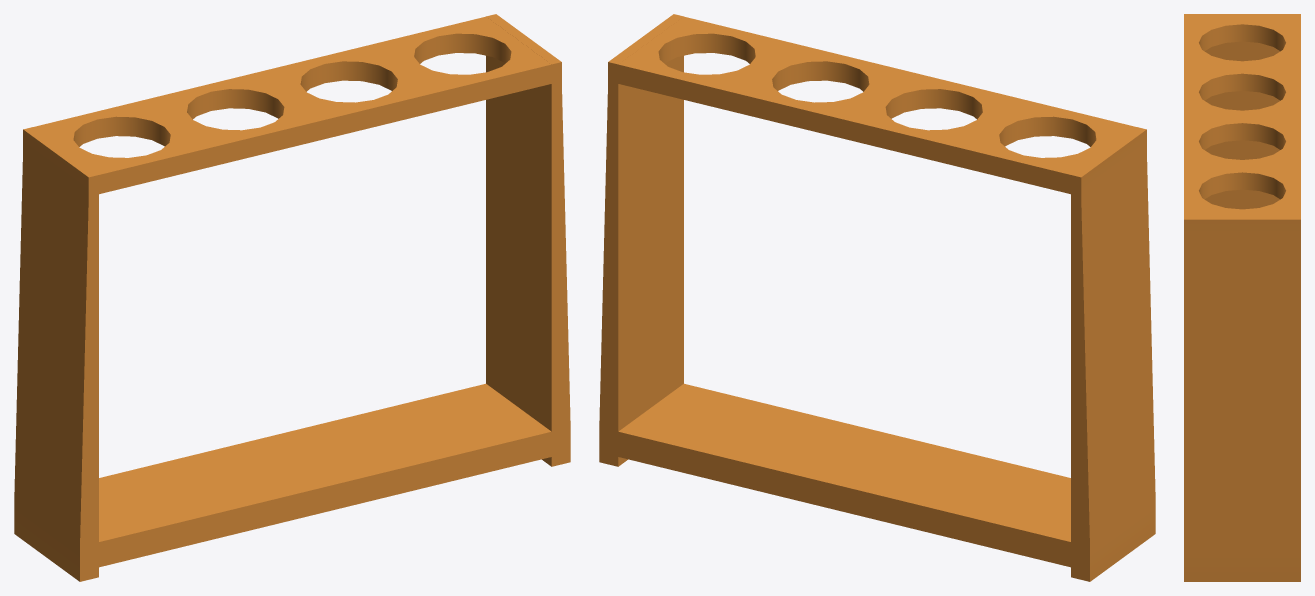
Rendered from vialLargeHolder.fbx.
3 views of the same model, side by side, from view 1: azimuth 30°, elevation 25°; view 2: azimuth 150°, elevation 25°; view 3: azimuth 270°, elevation 25° (orthographic). The views are drawn at different scales.
Visible parts, largest first — view 1: Tall Vial Holder; view 2: Tall Vial Holder; view 3: Tall Vial Holder.
Boxes of the visible parts, x1,y1,x2,y2 form: Tall Vial Holder: (14,14,570,581); Tall Vial Holder: (599,14,1155,581); Tall Vial Holder: (1184,14,1300,581).
Bounding box in the file's own units: 21.23 × 4.92 × 16.64.
